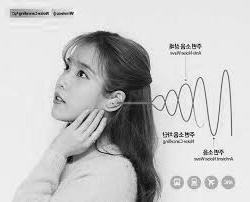earphone: (102, 90, 126, 112)
